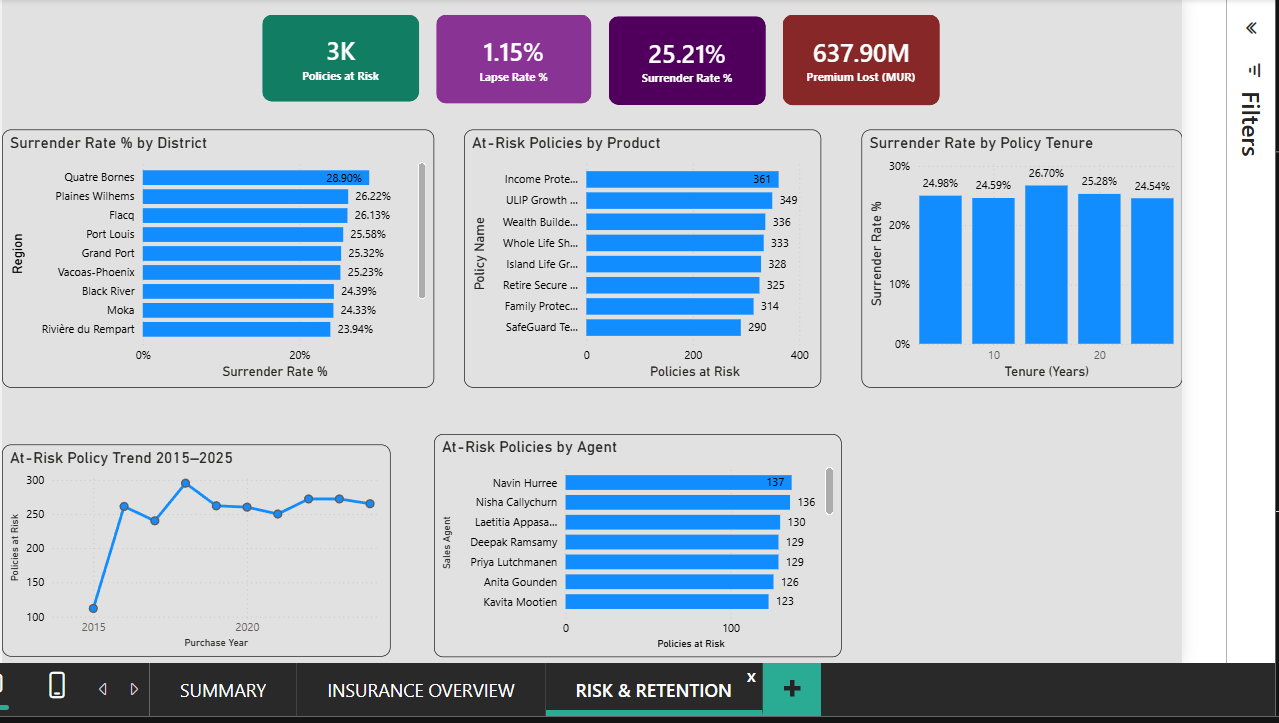

The page's visual inventory and layout, read from the dashboard file:
{"tool":"powerbi","page":{"name":"RISK & RETENTION","canvas":[1280,720],"ordinal":2},"visuals":[{"type":"cardVisual","fields":{"Data":["FCT Insurance_Policy_Table.Policies at Risk"]},"box":[264.6,0,204.1,128.5],"z":0},{"type":"cardVisual","fields":{"Data":["FCT Insurance_Policy_Table.Lapse Rate %"]},"box":[453.5,0,202.2,130.4],"z":1000},{"type":"cardVisual","fields":{"Data":["FCT Insurance_Policy_Table.Premium Lost (MUR)"]},"box":[829.6,0,204.1,132.3],"z":2000},{"type":"cardVisual","fields":{"Data":["FCT Insurance_Policy_Table.Surrender Rate %"]},"box":[640.6,1.9,204.1,130.4],"z":3000},{"type":"clusteredBarChart","title":"Surrender Rate % by District","fields":{"Category":["FCT Insurance_Policy_Table.State"],"Y":["FCT Insurance_Policy_Table.Surrender Rate %"]},"box":[0,141.7,468.7,279.7],"z":4000},{"type":"clusteredBarChart","title":"At-Risk Policies by Product","fields":{"Category":["DM Policy_Protection_Plan.Policy Name"],"Y":["FCT Insurance_Policy_Table.Policies at Risk"]},"box":[500.8,141.7,387.4,279.7],"z":5000},{"type":"lineChart","title":"At-Risk Policy Trend 2015–2025","fields":{"Category":["FCT Insurance_Policy_Table.Purchase Year"],"Y":["FCT Insurance_Policy_Table.Policies at Risk"]},"box":[0,482.9,421.4,230],"z":6000},{"type":"clusteredBarChart","title":"At-Risk Policies by Agent","fields":{"Category":["DM Insurance_Agent_Table.Sales Agent"],"Y":["FCT Insurance_Policy_Table.Policies at Risk"]},"box":[468.7,472.4,442.2,241.9],"z":7000},{"type":"clusteredColumnChart","title":"Surrender Rate by Policy Tenure","fields":{"Category":["FCT Insurance_Policy_Table.Tenure (Years)"],"Y":["FCT Insurance_Policy_Table.Surrender Rate %"]},"box":[931.7,141.7,347.7,279.7],"z":8000}]}

Visuals, with their boxes on the page's 1280x720 design canvas (x1, y1, x2, y2). These are canvas units, not pixel positions in the 1279x723 screenshot, which may show the page scaled, cropped or inside an application window:
cardVisual - FCT Insurance_Policy_Table.Policies at Risk: (265, 0, 469, 128)
cardVisual - FCT Insurance_Policy_Table.Lapse Rate %: (454, 0, 656, 130)
cardVisual - FCT Insurance_Policy_Table.Premium Lost (MUR): (830, 0, 1034, 132)
cardVisual - FCT Insurance_Policy_Table.Surrender Rate %: (641, 2, 845, 132)
"Surrender Rate % by District" clusteredBarChart: (0, 142, 469, 421)
"At-Risk Policies by Product" clusteredBarChart: (501, 142, 888, 421)
"At-Risk Policy Trend 2015–2025" lineChart: (0, 483, 421, 713)
"At-Risk Policies by Agent" clusteredBarChart: (469, 472, 911, 714)
"Surrender Rate by Policy Tenure" clusteredColumnChart: (932, 142, 1279, 421)
